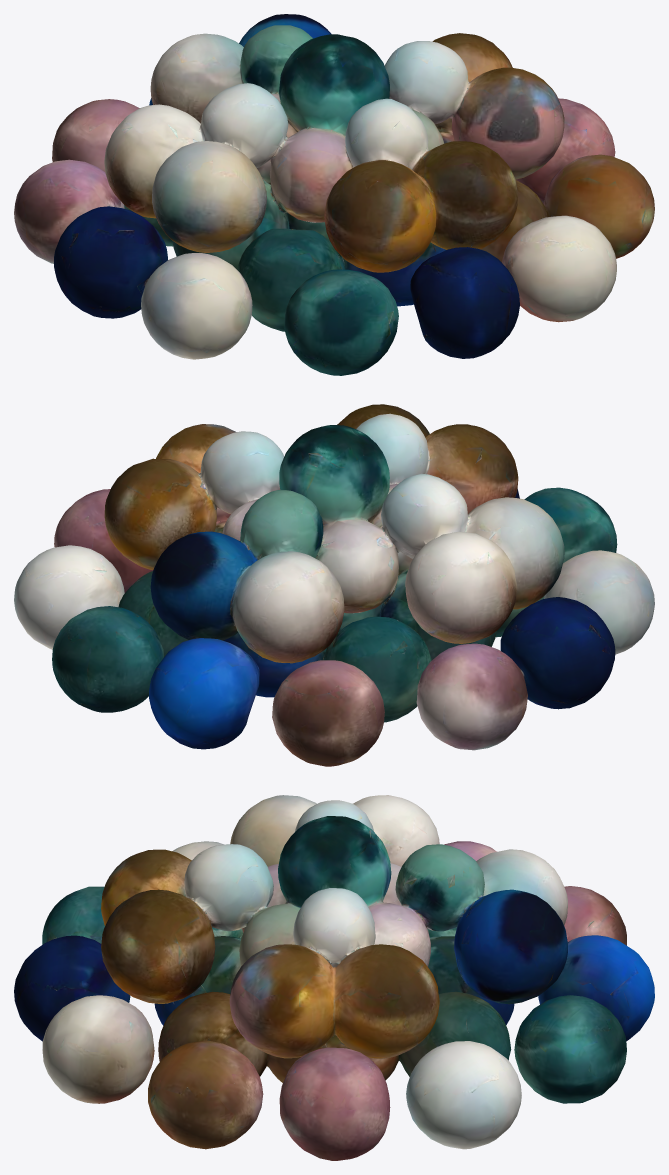
Rendered from marbles-water.glb.
The picture shows the model from 3 angles, top to bottom: view 1: azimuth 30°, elevation 25°; view 2: azimuth 150°, elevation 25°; view 3: azimuth 270°, elevation 25°; orthographic projection.
Parts seen in each view (by area): view 1: Mesh_0; view 2: Mesh_0; view 3: Mesh_0.
Part boxes in pixels (x1,y1,x2,y2): Mesh_0: [14, 14, 654, 375]; Mesh_0: [14, 404, 654, 766]; Mesh_0: [14, 795, 654, 1160].
Bounding box in the file's own units: 1.9 × 0.7314 × 1.9.
1 material, 1 textured.
